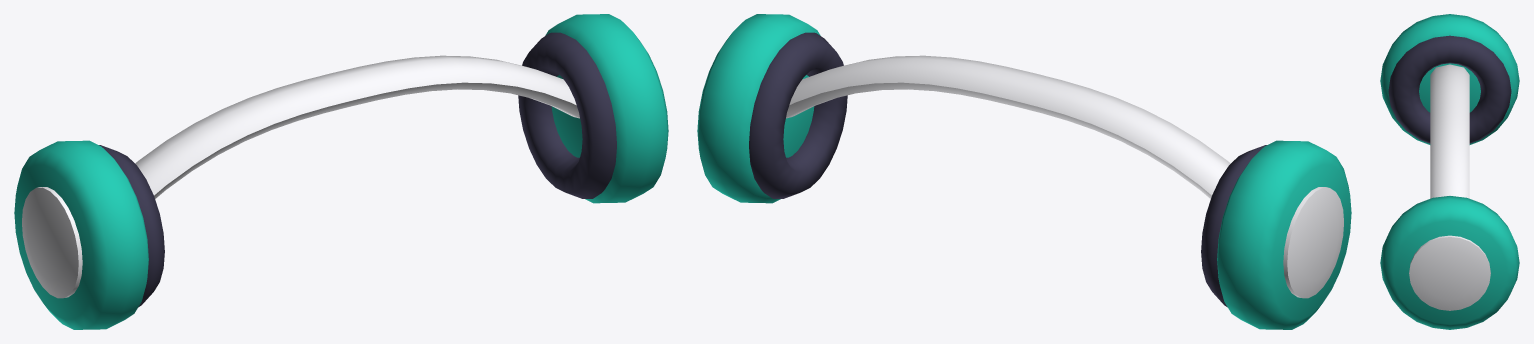
Rendered from headphones.glb.
The picture shows the model from 3 angles, left to right: view 1: azimuth 30°, elevation 25°; view 2: azimuth 150°, elevation 25°; view 3: azimuth 270°, elevation 25°; orthographic projection. The views are drawn at different scales.
Parts seen in each view (by area): view 1: headphones; view 2: headphones; view 3: headphones.
Part boxes in pixels (<box>): headphones: <box>14,14,668,329</box>; headphones: <box>697,14,1351,329</box>; headphones: <box>1380,14,1519,329</box>.
Size of the model in its own units: 0.9 by 0.267 by 0.256.
